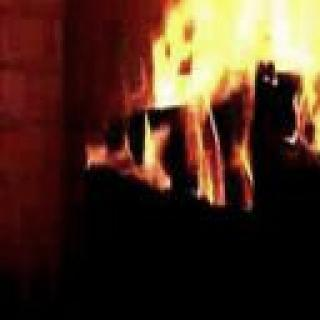fire: (185, 0, 320, 180)
